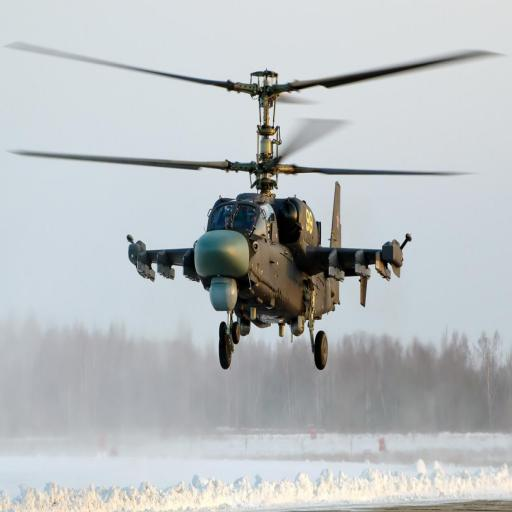helicopter: (13, 35, 506, 381)
